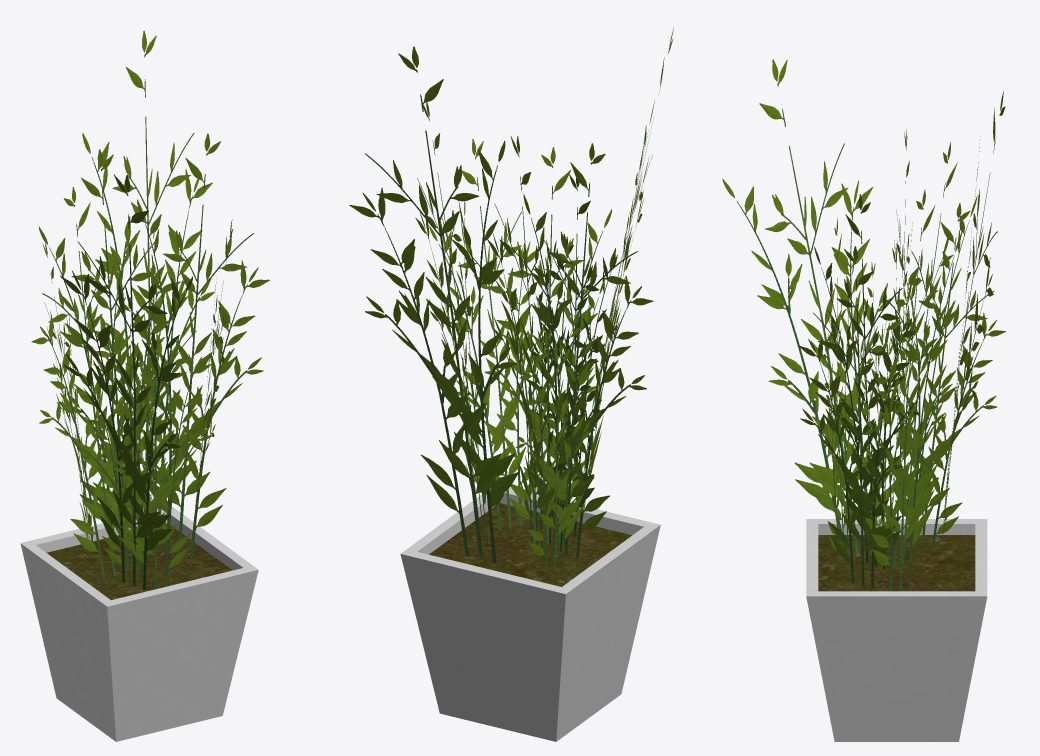
File: pot_plant_d.glb
The picture shows the model from 3 angles, left to right: view 1: azimuth 30°, elevation 25°; view 2: azimuth 150°, elevation 25°; view 3: azimuth 270°, elevation 25°; orthographic projection. The views are drawn at different scales.
Visible parts, largest first — view 1: Pot_4_Low_PolyPlant_0; view 2: Pot_4_Low_PolyPlant_0; view 3: Pot_4_Low_PolyPlant_0.
Boxes of the visible parts, x1=… form: Pot_4_Low_PolyPlant_0: x1=20, y1=30, x2=270, y2=741; Pot_4_Low_PolyPlant_0: x1=349, y1=27, x2=673, y2=741; Pot_4_Low_PolyPlant_0: x1=722, y1=59, x2=1005, y2=741.
Bounding box in the file's own units: 0.3071 × 0.7 × 0.3029.
Materials: 1 (1 with a texture image).
